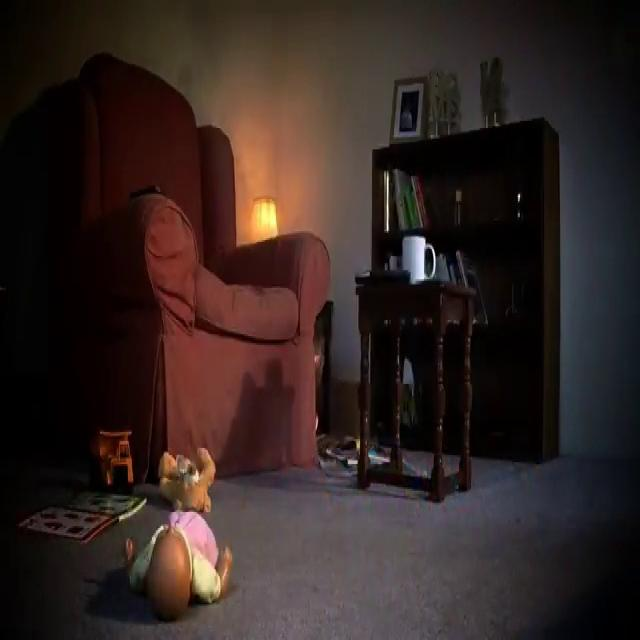fire: (250, 180, 286, 260)
